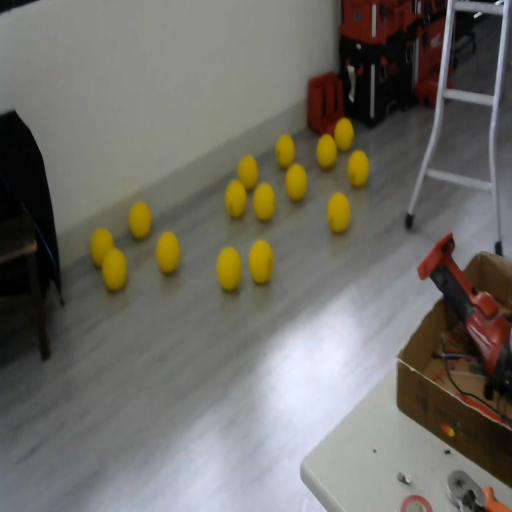FUEL: (100, 245, 128, 293), (154, 229, 182, 275), (248, 238, 274, 286), (216, 245, 242, 292), (326, 191, 351, 235), (252, 180, 276, 222), (284, 162, 308, 202), (346, 148, 370, 188), (128, 200, 152, 240), (224, 178, 247, 218), (274, 133, 296, 169), (316, 133, 337, 170), (238, 155, 258, 191), (334, 118, 354, 152)
